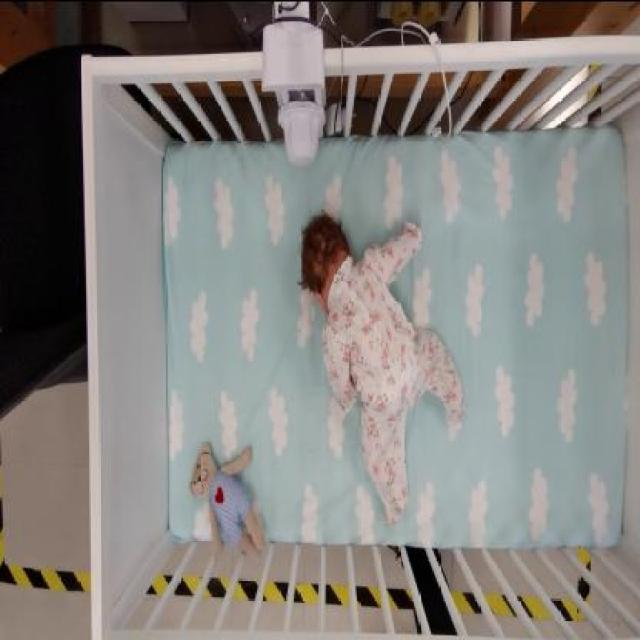baby: (294, 210, 466, 527)
